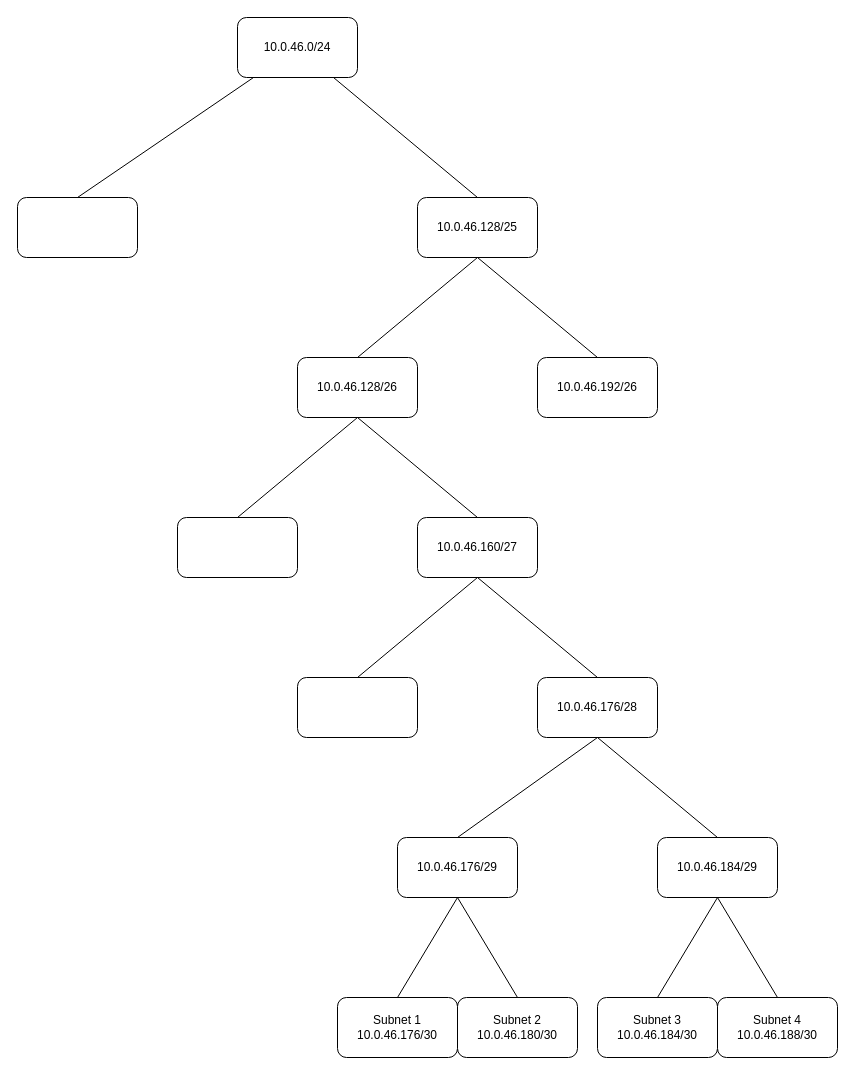
The diagram is 855 pixels wide and 1075 high, and some of its shapes have lost their labels. The shapes that lost their labels are listed below. From the top down, each one's centre as x and y in pixels, then its label:
point (77, 227): Office 1 10.0.46.0/25
point (237, 547): Office 2 10.0.46.128/27
point (357, 707): Servers 10.0.46.160/28
